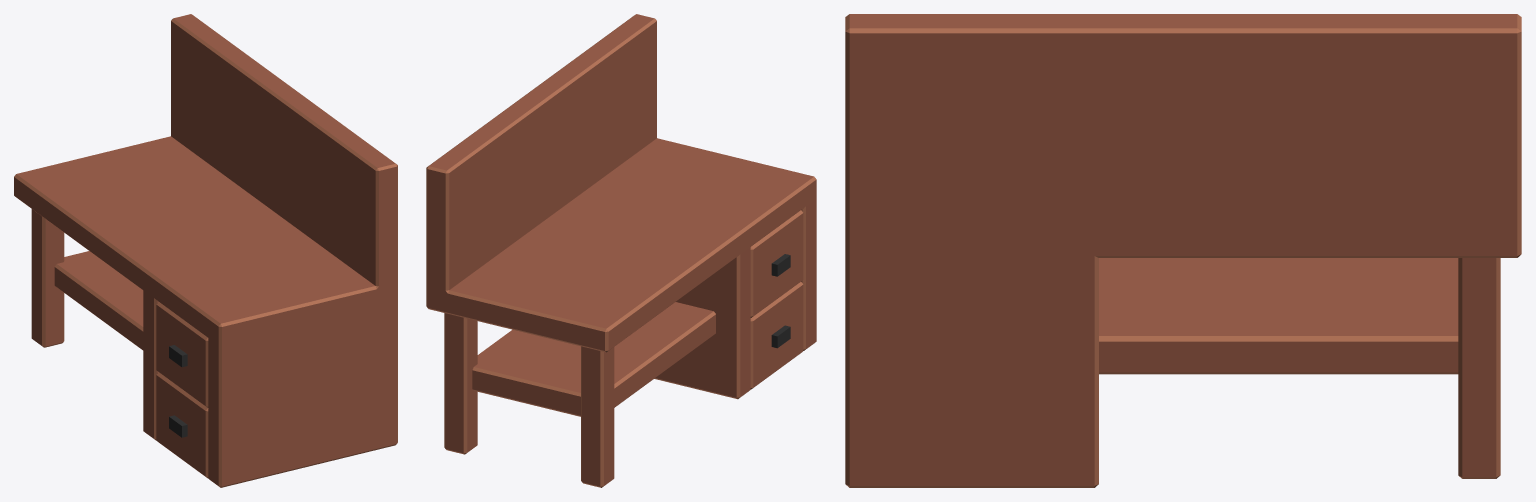
File: adesk.glb
3 views of the same model, side by side, from view 1: azimuth 30°, elevation 25°; view 2: azimuth 150°, elevation 25°; view 3: azimuth 270°, elevation 25° (orthographic). The views are drawn at different scales.
Visible parts, largest first — view 1: Cube.003, Cube.004, Cube.011, Cube.007, Cube.008, Cube.006, Cube.005, Cube.010; view 2: Cube.003, Cube.004, Cube.007, Cube.010, Cube.008, Cube.009, Cube.005, Cube.006, Cube.011; view 3: Cube.004, Cube.007, Cube.012, Cube.003, Cube.009, Cube.011, Cube.010.
Boxes of the visible parts, left/top/right/bottom form: Cube.003: left=14, top=136, right=397, bottom=347; Cube.004: left=171, top=14, right=397, bottom=286; Cube.011: left=208, top=302, right=397, bottom=487; Cube.007: left=54, top=251, right=143, bottom=350; Cube.008: left=31, top=209, right=64, bottom=347; Cube.006: left=156, top=372, right=208, bottom=478; Cube.005: left=156, top=302, right=208, bottom=407; Cube.010: left=143, top=290, right=158, bottom=440; Cube.003: left=426, top=138, right=816, bottom=352; Cube.004: left=426, top=14, right=656, bottom=290; Cube.007: left=472, top=302, right=715, bottom=416; Cube.010: left=654, top=247, right=750, bottom=399; Cube.008: left=581, top=346, right=614, bottom=487; Cube.009: left=444, top=313, right=477, bottom=454; Cube.005: left=750, top=210, right=803, bottom=317; Cube.006: left=750, top=282, right=803, bottom=389; Cube.011: left=801, top=199, right=816, bottom=350; Cube.004: left=845, top=14, right=1521, bottom=221; Cube.007: left=1099, top=258, right=1458, bottom=374; Cube.012: left=883, top=256, right=1060, bottom=487; Cube.003: left=845, top=220, right=1521, bottom=257; Cube.009: left=1458, top=258, right=1500, bottom=478; Cube.011: left=845, top=256, right=883, bottom=487; Cube.010: left=1061, top=256, right=1098, bottom=487.
Size of the model in its own units: 16.5 by 24 by 32.
Materials: 3 (2 with a texture image).
